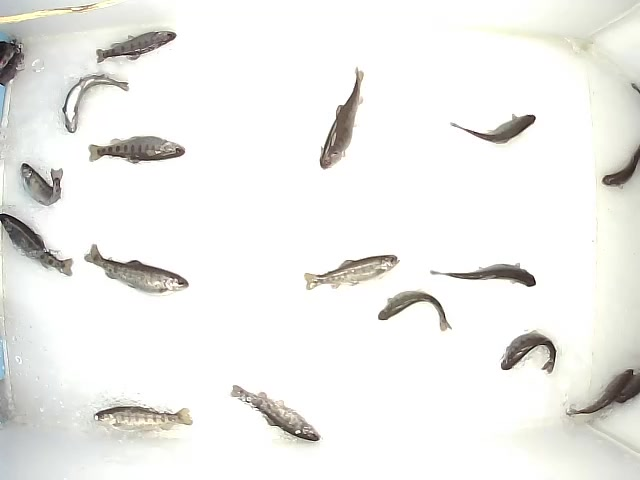fish: (82, 242, 190, 297), (229, 383, 323, 443), (319, 65, 366, 170), (1, 211, 74, 278), (60, 72, 131, 134), (302, 252, 402, 295), (565, 366, 635, 418), (92, 28, 178, 66), (87, 134, 186, 166), (447, 112, 537, 146), (429, 261, 538, 289), (93, 404, 196, 432), (499, 328, 559, 375), (600, 137, 640, 190), (19, 160, 64, 207), (376, 289, 425, 322), (615, 370, 640, 406)
